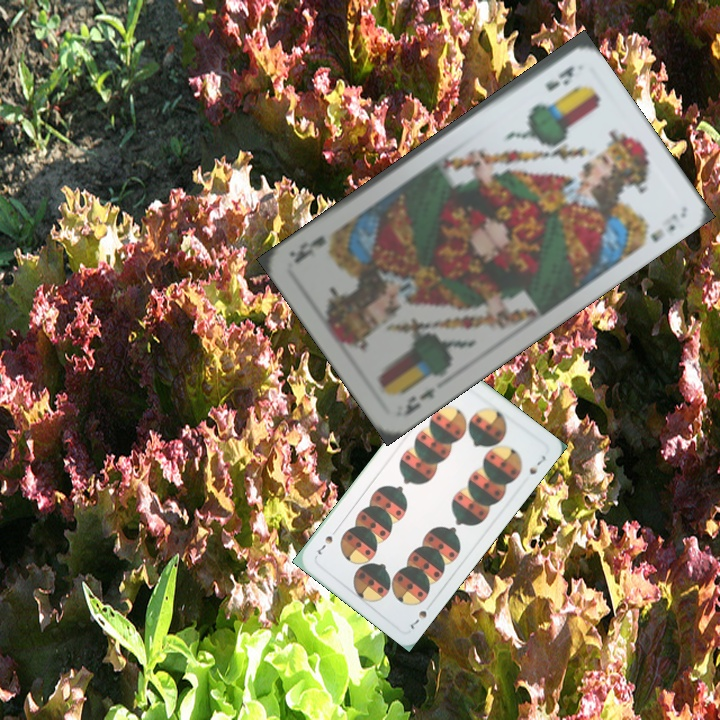EK: (397, 383, 439, 420), (541, 61, 578, 94)
S7: (406, 606, 429, 632)
